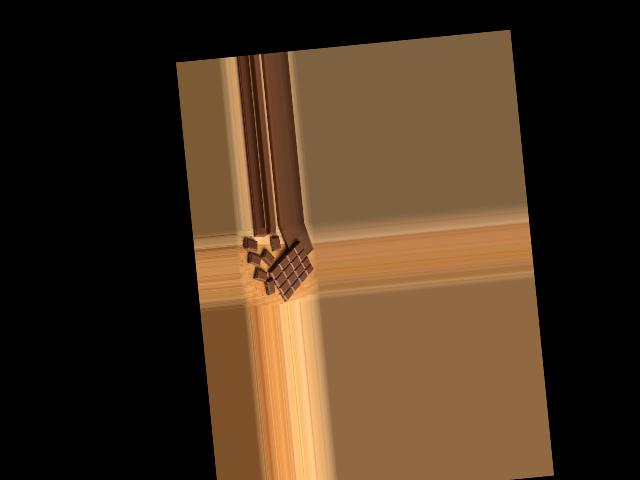chocolate: (263, 239, 316, 301)
